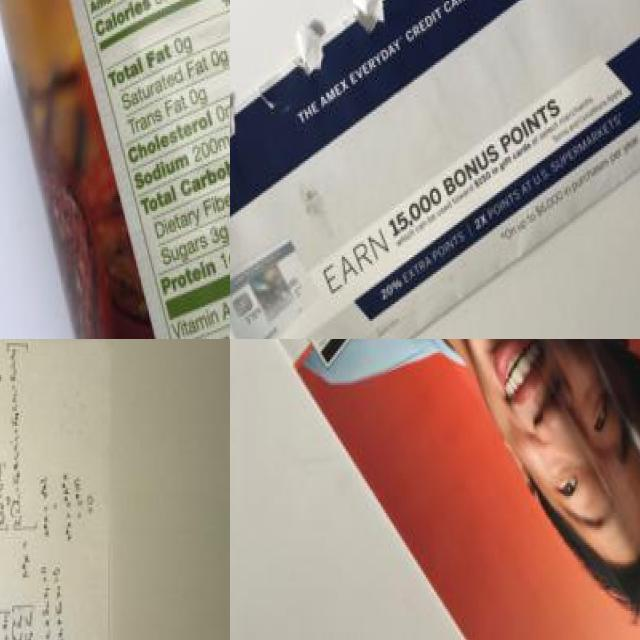paper: (230, 0, 640, 339), (238, 339, 640, 626), (0, 339, 117, 640)
plastic: (0, 0, 230, 339)
